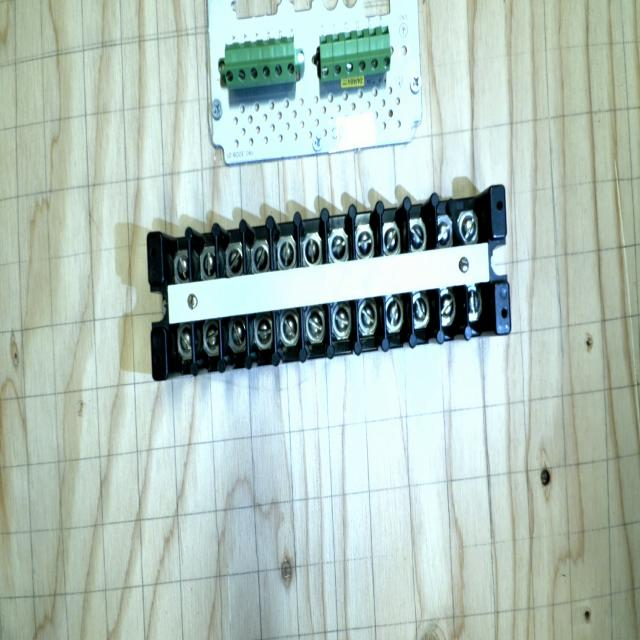Flathead_Block: (134, 186, 523, 380)
Terminal_1: (314, 26, 395, 82), (222, 37, 298, 90)
